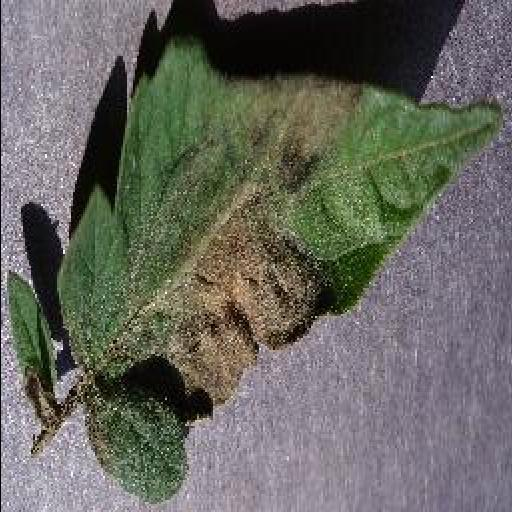disease_tomato: (54, 42, 506, 506)
